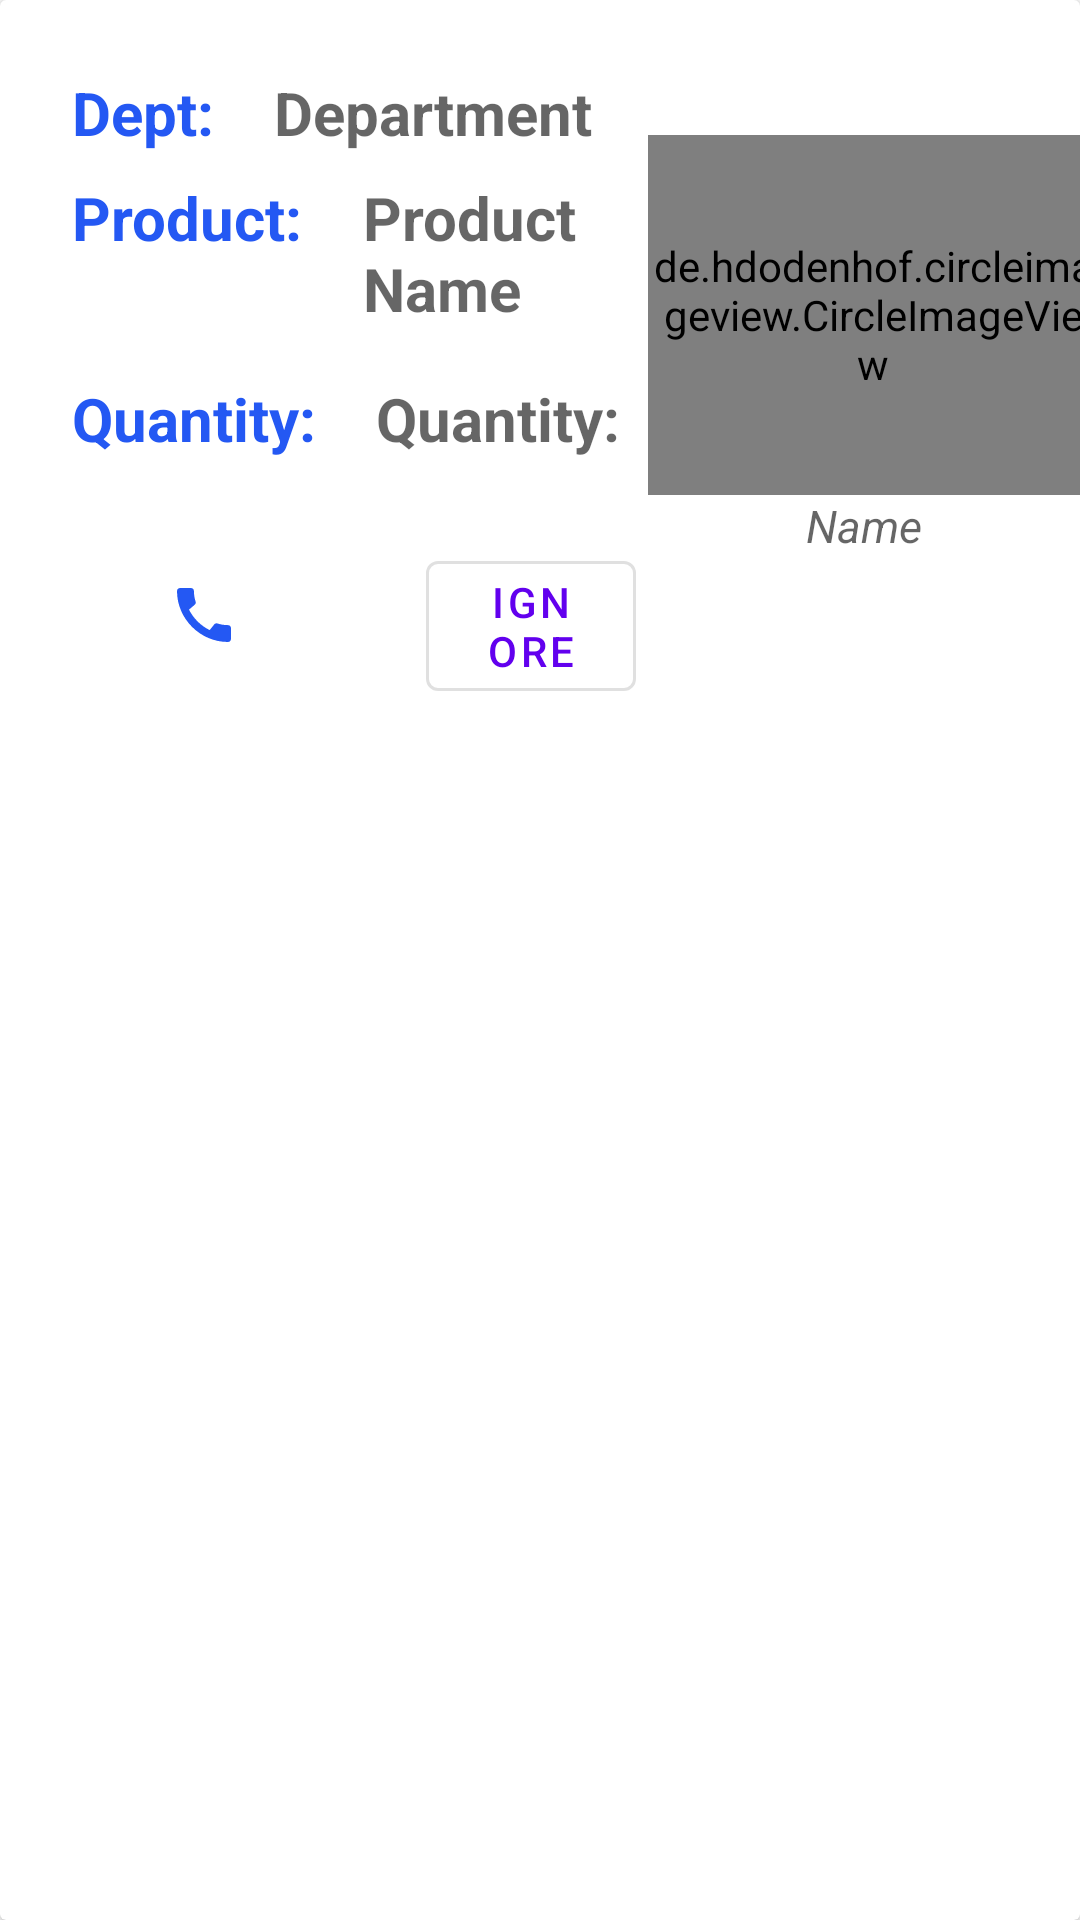

Icons on this 1080px×1920px Android screen, each with its box as (x1, y1, x2, y2):
call: (177, 588, 231, 642)
